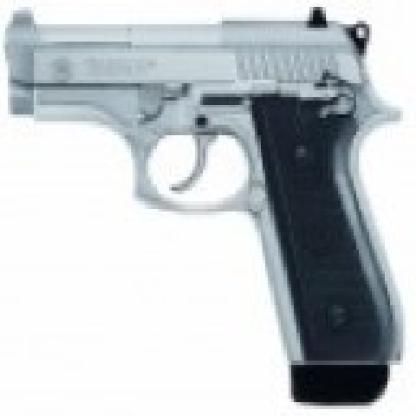handgun: (2, 0, 400, 402)
